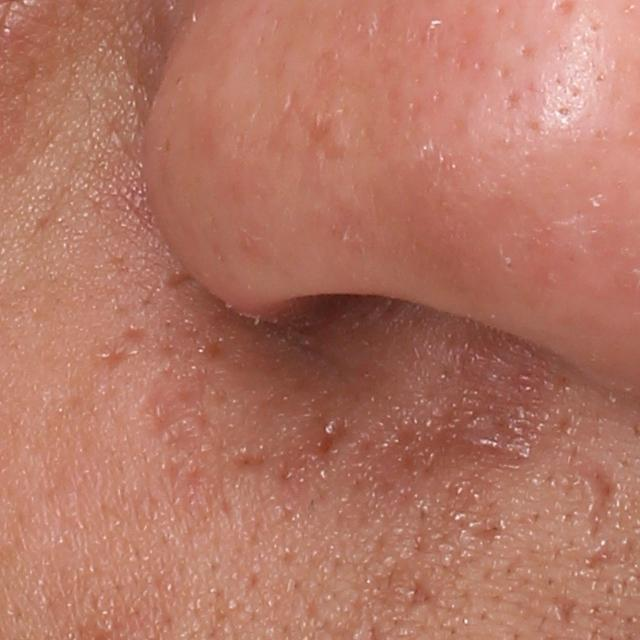atrophic_scar: (233, 406, 359, 502), (583, 463, 615, 542), (580, 540, 621, 575), (400, 579, 438, 614), (552, 595, 589, 629)
